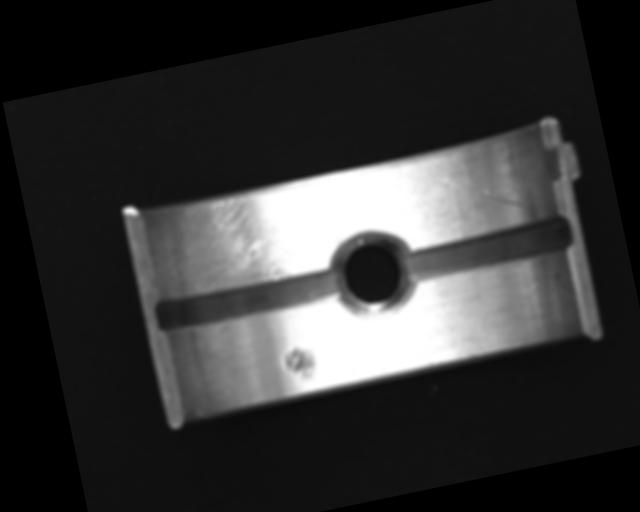bruise: (281, 343, 318, 387)
gap: (153, 261, 348, 336), (404, 215, 574, 284)
hole: (327, 222, 419, 322)
nick: (438, 160, 530, 226)
scratch: (149, 173, 332, 302)
